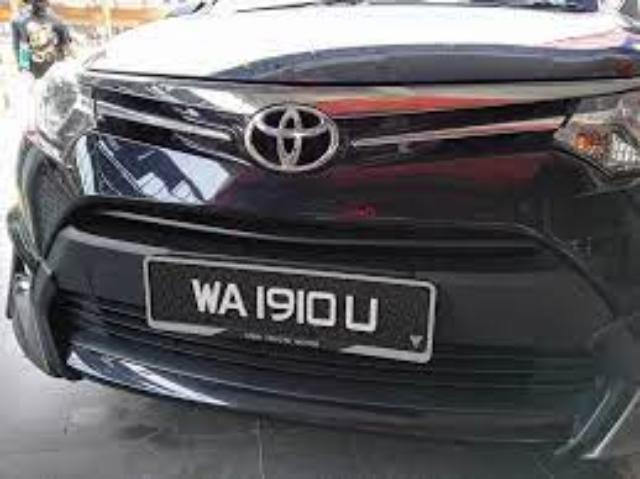License_Plate: (132, 244, 444, 383)
car: (6, 9, 640, 464)
